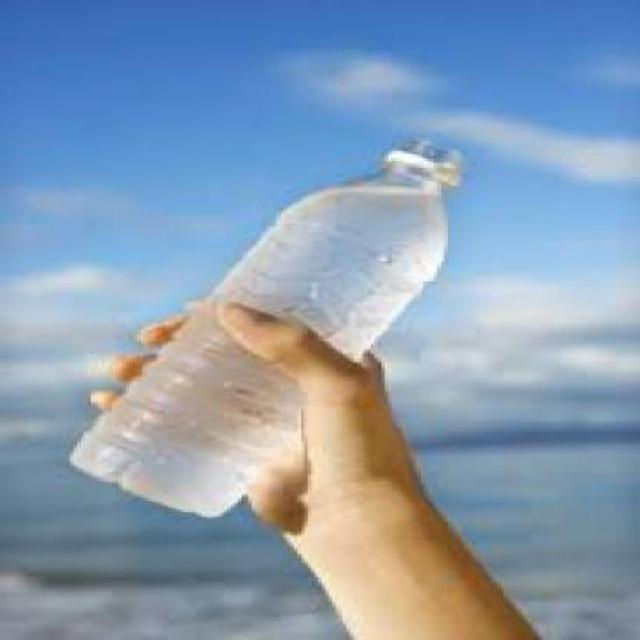Drinking: (147, 138, 444, 505)
